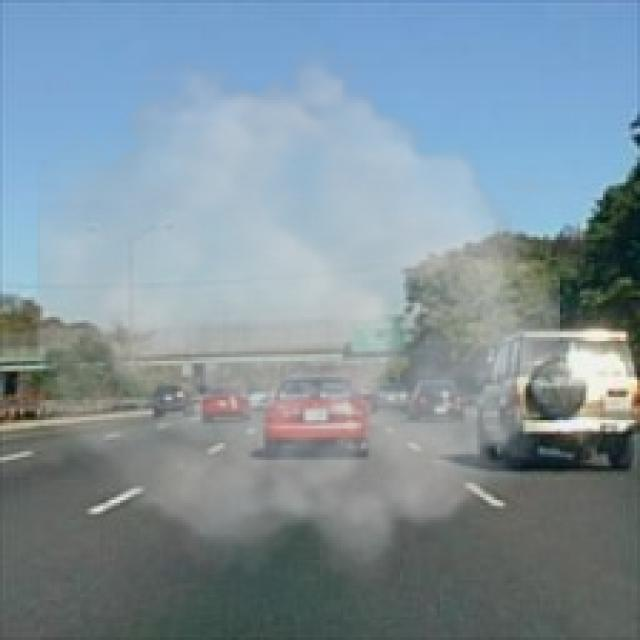Smoke: (37, 40, 560, 586)
